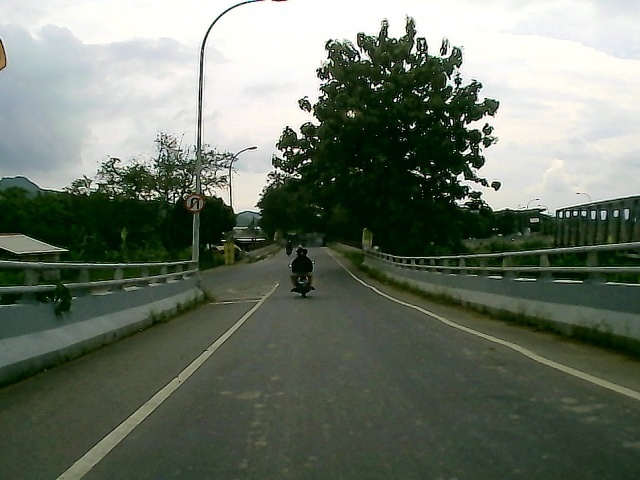Dilarang berbalik arah: (182, 193, 205, 214)
